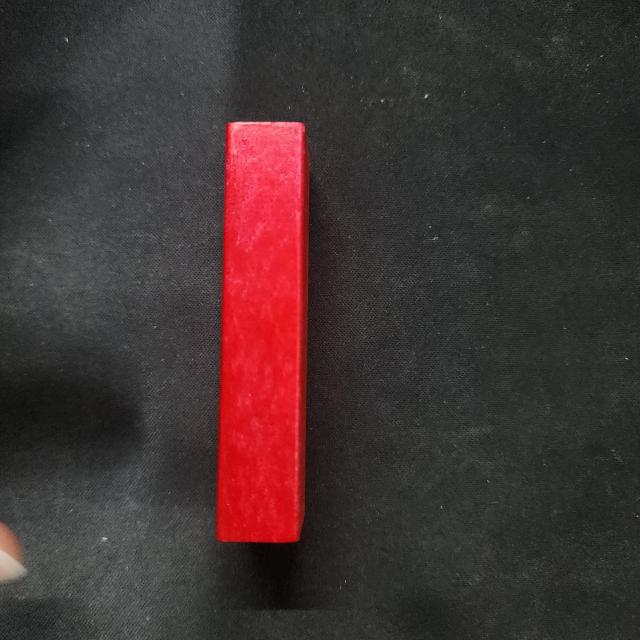red: (214, 121, 314, 544)
